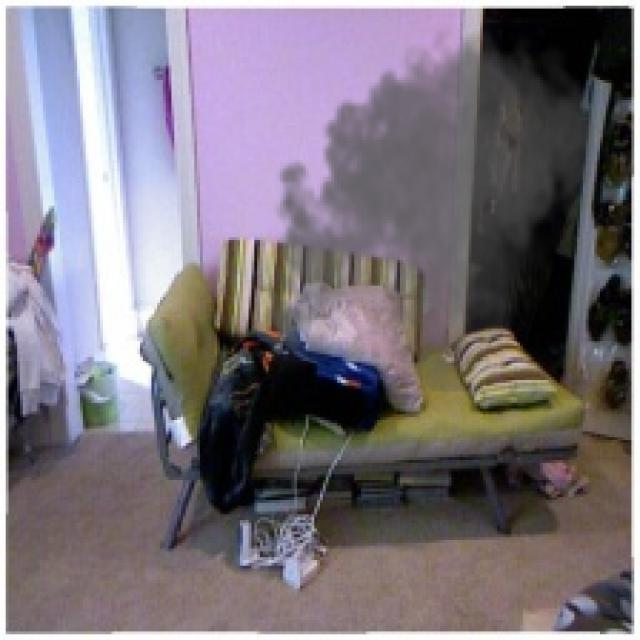smoke: (254, 14, 603, 392)
